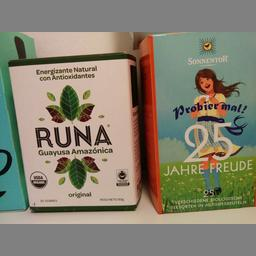tea: (6, 50, 140, 212), (137, 32, 254, 213)
